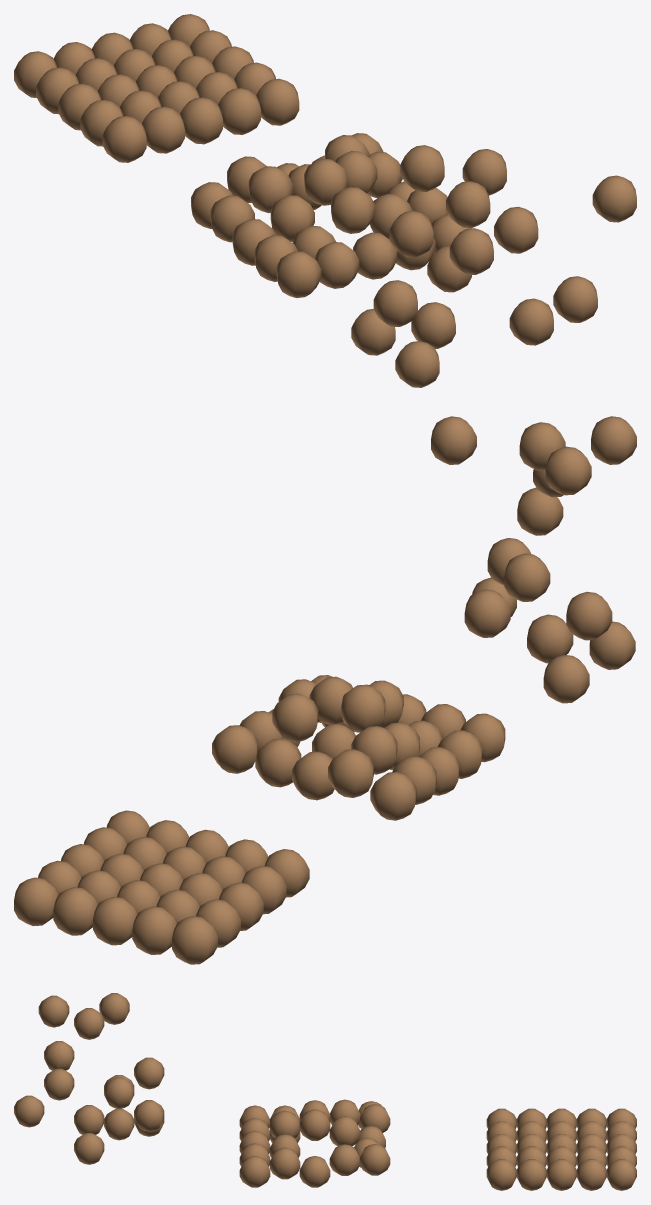
Rendered from particles.fbx.
3 renders of one model, top to bottom at view 1: azimuth 30°, elevation 25°; view 2: azimuth 150°, elevation 25°; view 3: azimuth 270°, elevation 25°, orthographic. The views are drawn at different scales.
Parts seen in each view (by area): view 1: solid2, liquid1, gas; view 2: solid2, liquid1, gas; view 3: solid2, liquid1, gas.
Part boxes in pixels (left/top/right/bottom): solid2: left=14, top=14, right=299, bottom=162; liquid1: left=191, top=133, right=471, bottom=297; gas: left=351, top=145, right=636, bottom=387; solid2: left=14, top=810, right=309, bottom=964; liquid1: left=212, top=675, right=505, bottom=820; gas: left=431, top=416, right=636, bottom=703; solid2: left=486, top=1108, right=636, bottom=1190; liquid1: left=239, top=1099, right=390, bottom=1187; gas: left=14, top=993, right=164, bottom=1164.
Size of the model in its own units: 79.42 by 78.1 by 296.
